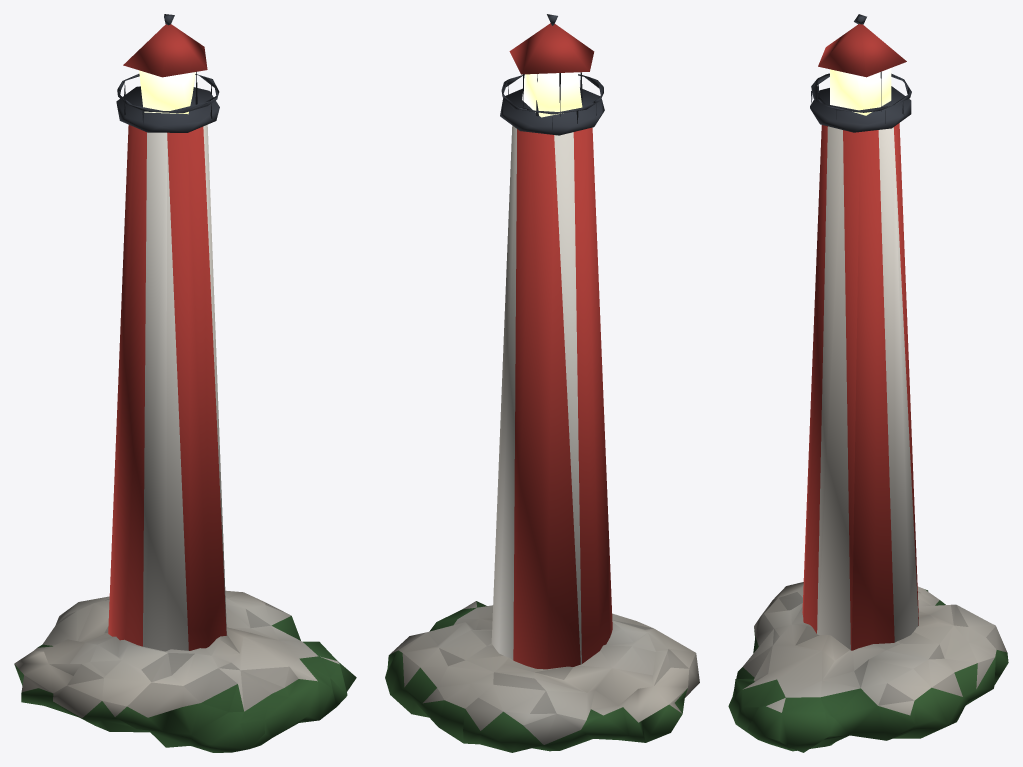
Rendered from shore_lighthouse_lod2.glb.
3 renders of one model, left to right at view 1: azimuth 30°, elevation 25°; view 2: azimuth 150°, elevation 25°; view 3: azimuth 270°, elevation 25°, orthographic. The views are drawn at different scales.
Visible parts, largest first — view 1: shore_lighthouse.001; view 2: shore_lighthouse.001; view 3: shore_lighthouse.001.
Part boxes in pixels (x1,y1,x2,y2): shore_lighthouse.001: (14, 14, 356, 752); shore_lighthouse.001: (385, 14, 699, 752); shore_lighthouse.001: (728, 14, 1008, 752).
Bounding box in the file's own units: 59.28 × 141 × 51.53.
